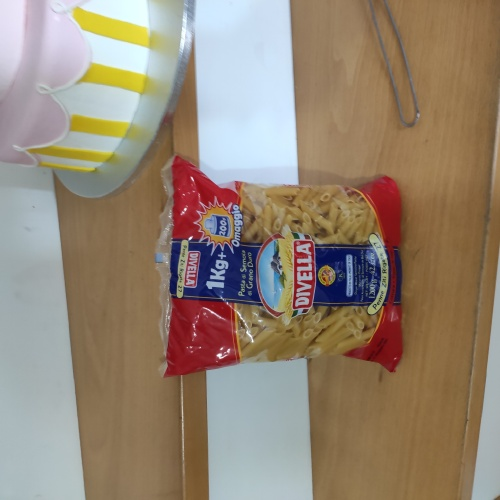pasta: (162, 171, 406, 375)
